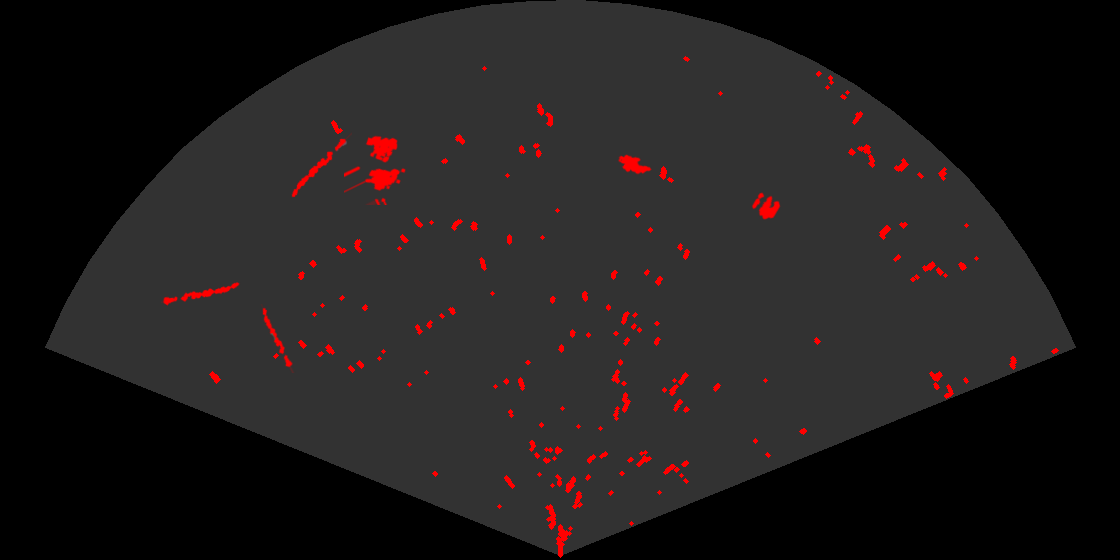AUV: (616, 153, 653, 176)
ball: (750, 191, 782, 221)
cage: (344, 134, 407, 205)
chain: (290, 131, 352, 199), (259, 304, 296, 373), (161, 281, 241, 307)
